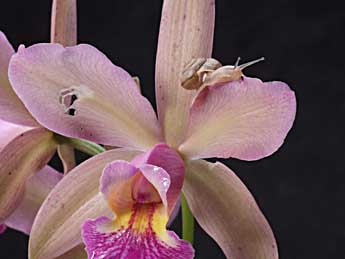snail: (175, 55, 262, 85)
